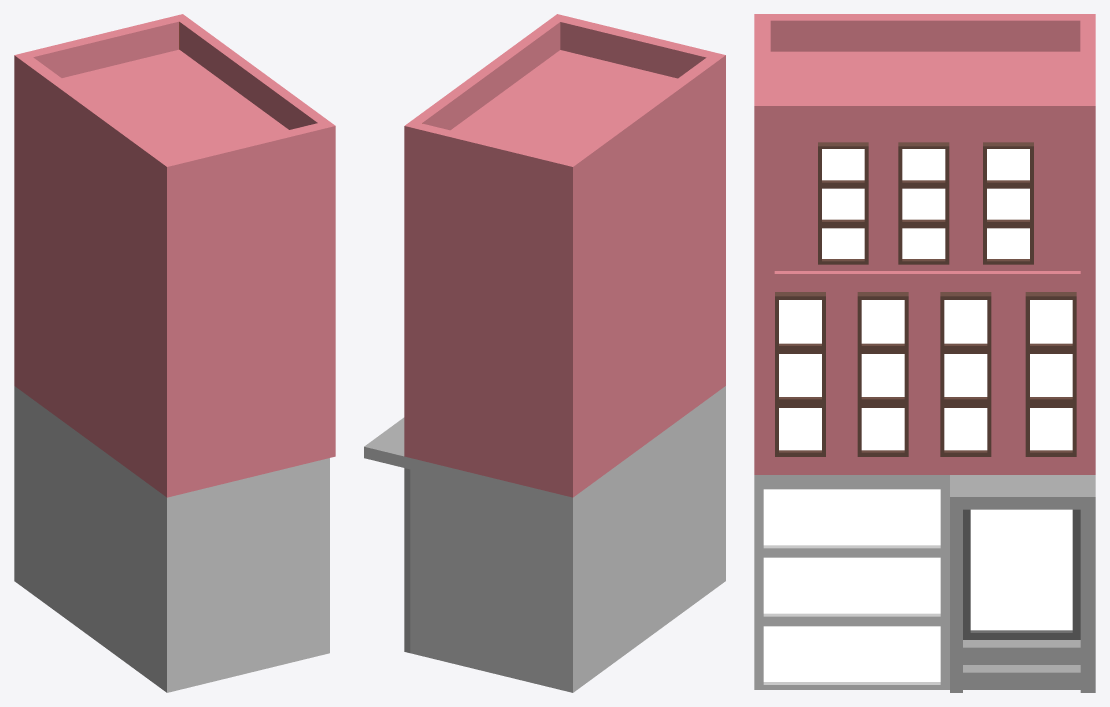
The model's file is House 3.5.fbx.
3 views of the same model, side by side, from view 1: azimuth 30°, elevation 25°; view 2: azimuth 150°, elevation 25°; view 3: azimuth 270°, elevation 25° (orthographic). The views are drawn at different scales.
Parts seen in each view (by area): view 1: House 3.006; view 2: House 3.006; view 3: House 3.006.
Part boxes in pixels (x1=…): House 3.006: x1=14, y1=14, x2=335, y2=692; House 3.006: x1=364, y1=14, x2=725, y2=692; House 3.006: x1=754, y1=14, x2=1095, y2=692.
Bounding box in the file's own units: 725 × 1743 × 919.
